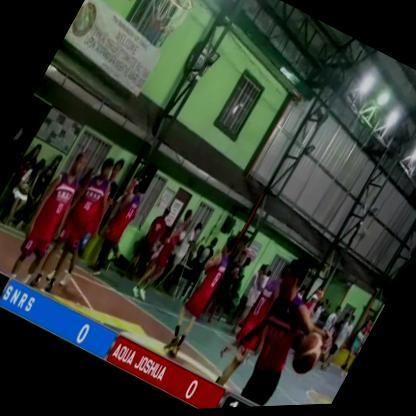basketball: (277, 320, 339, 394)
rim: (122, 0, 210, 67)
